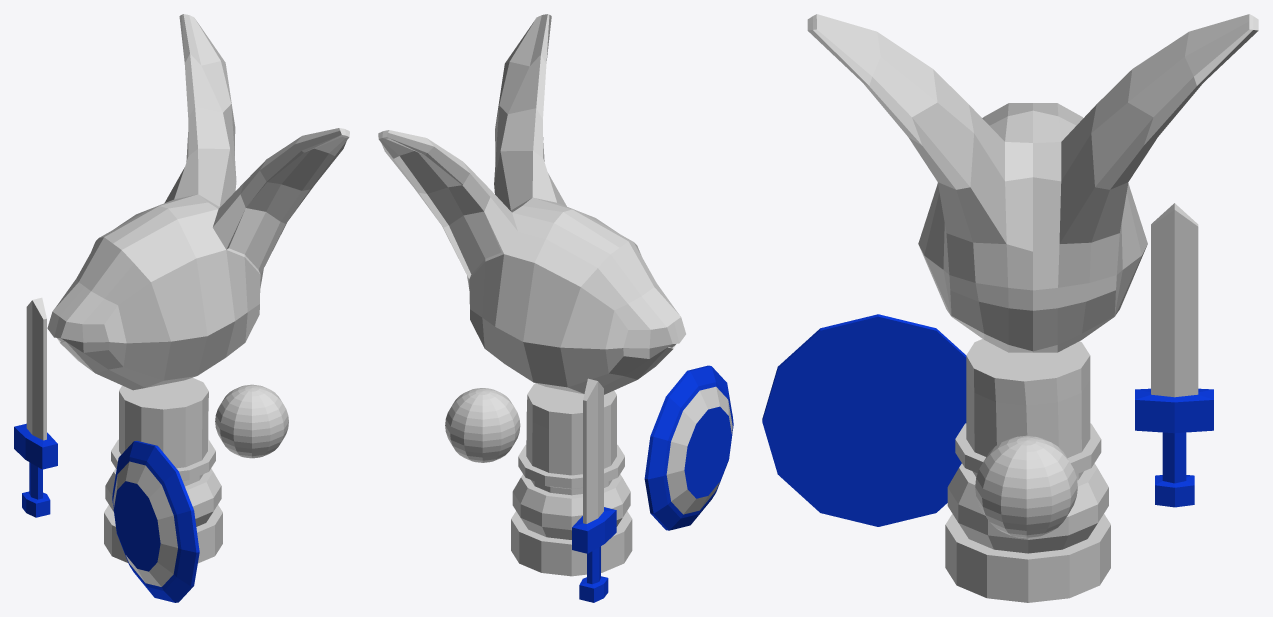
The model's file is SoldierRabbit.fbx.
The picture shows the model from 3 angles, left to right: view 1: azimuth 30°, elevation 25°; view 2: azimuth 150°, elevation 25°; view 3: azimuth 270°, elevation 25°; orthographic projection. The views are drawn at different scales.
Visible parts, largest first — view 1: Plane; view 2: Plane; view 3: Plane.
Boxes of the visible parts, bbox=[...] form: Plane: bbox=[14, 14, 349, 602]; Plane: bbox=[378, 14, 733, 602]; Plane: bbox=[762, 14, 1258, 602].
Size of the model in its own units: 68.42 by 127 by 91.8.
